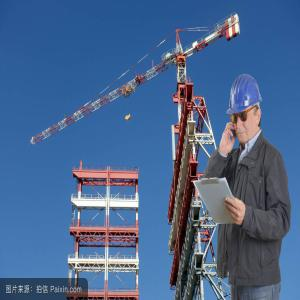blue: (229, 74, 264, 144)
